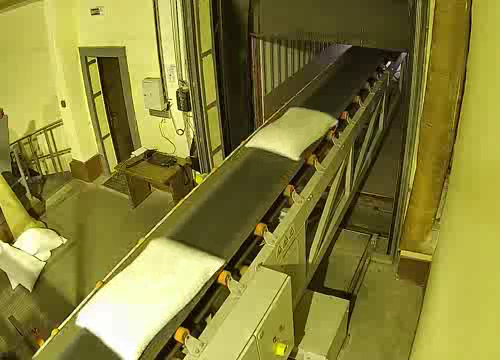bag: (66, 230, 234, 360), (238, 96, 358, 175)
